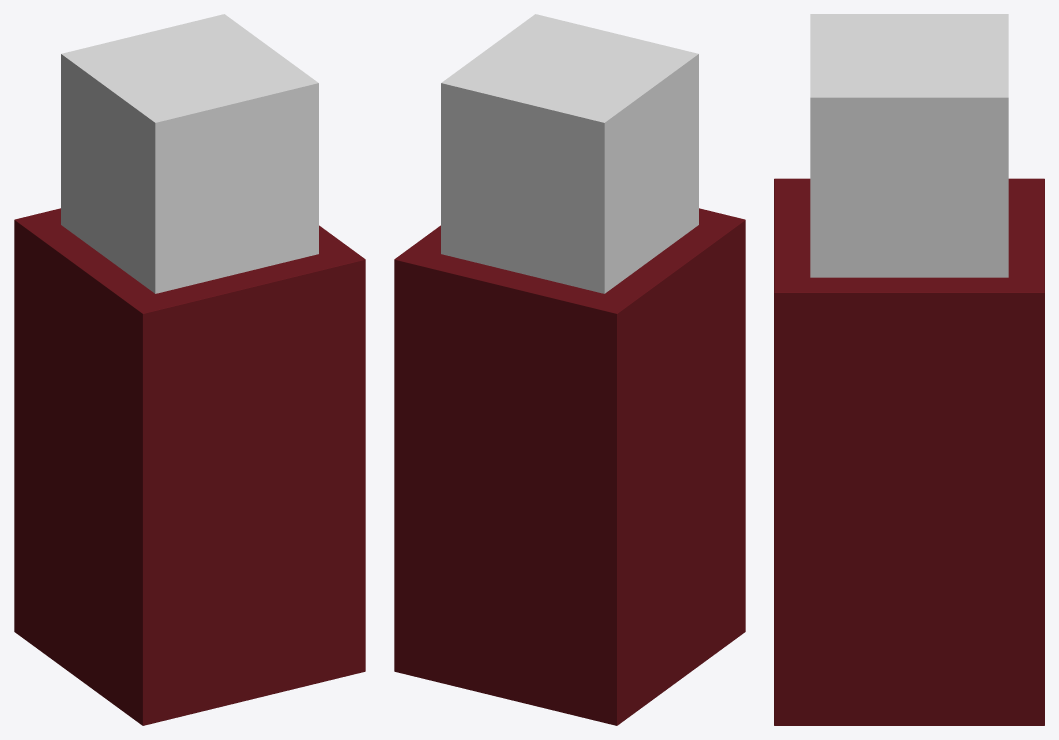
File: cube_red.glb
The picture shows the model from 3 angles, left to right: view 1: azimuth 30°, elevation 25°; view 2: azimuth 150°, elevation 25°; view 3: azimuth 270°, elevation 25°; orthographic projection. The views are drawn at different scales.
Parts seen in each view (by area): view 1: Cube, placeholder; view 2: Cube, placeholder; view 3: Cube, placeholder.
Part boxes in pixels (<box>): Cube: <box>14,208,365,725</box>; placeholder: <box>61,14,318,293</box>; Cube: <box>394,208,745,725</box>; placeholder: <box>441,14,698,293</box>; Cube: <box>774,178,1044,725</box>; placeholder: <box>810,14,1008,277</box>.
Bounding box in the file's own units: 2 × 5 × 2.
